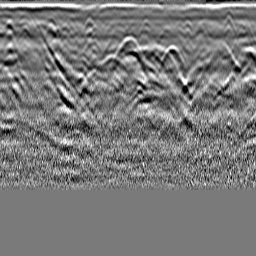cavity: (115, 32, 138, 54)
